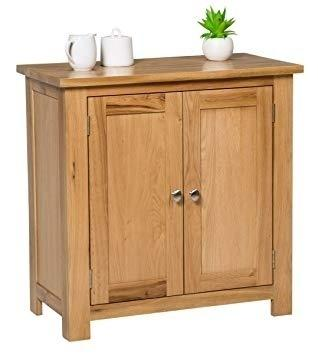cabinet_door: (91, 97, 183, 302), (185, 90, 272, 294)
handle: (189, 187, 199, 204), (171, 188, 181, 205)
